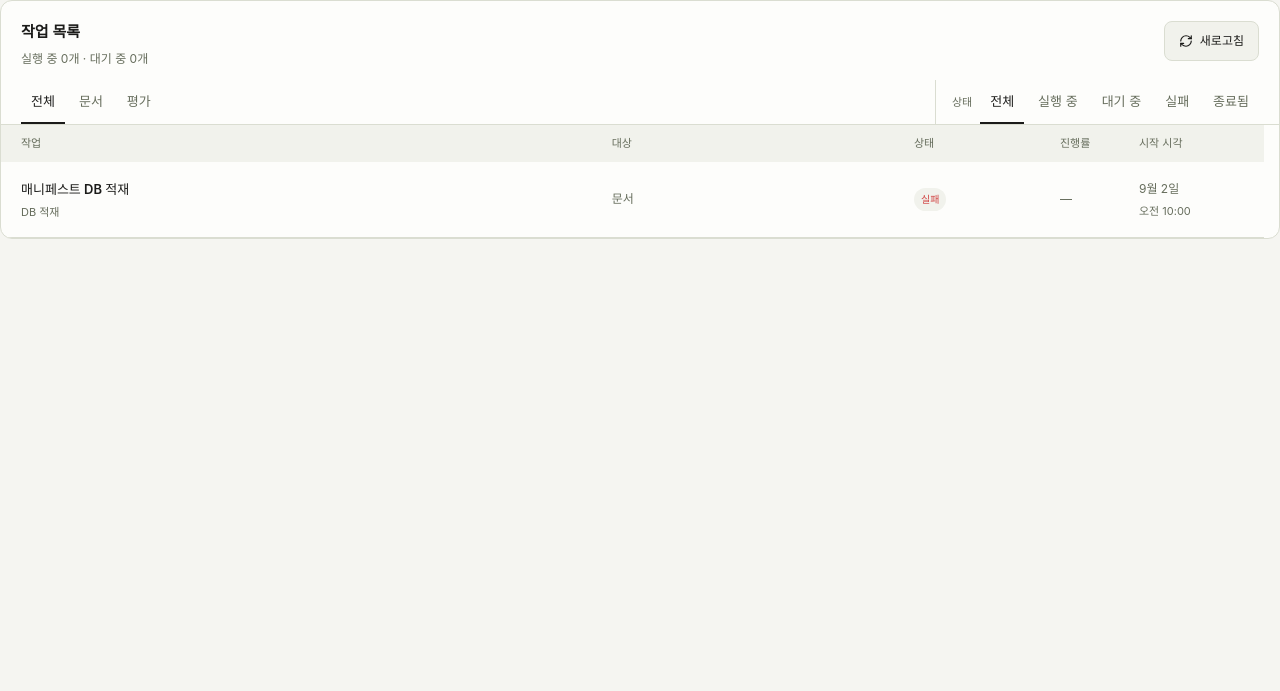
Test: localized job presentation › localizes job status while preserving server diagnostics
Step 1. Click the button "매니페스트" → {"x": 632, "y": 200}, box [1,162,1264,238]
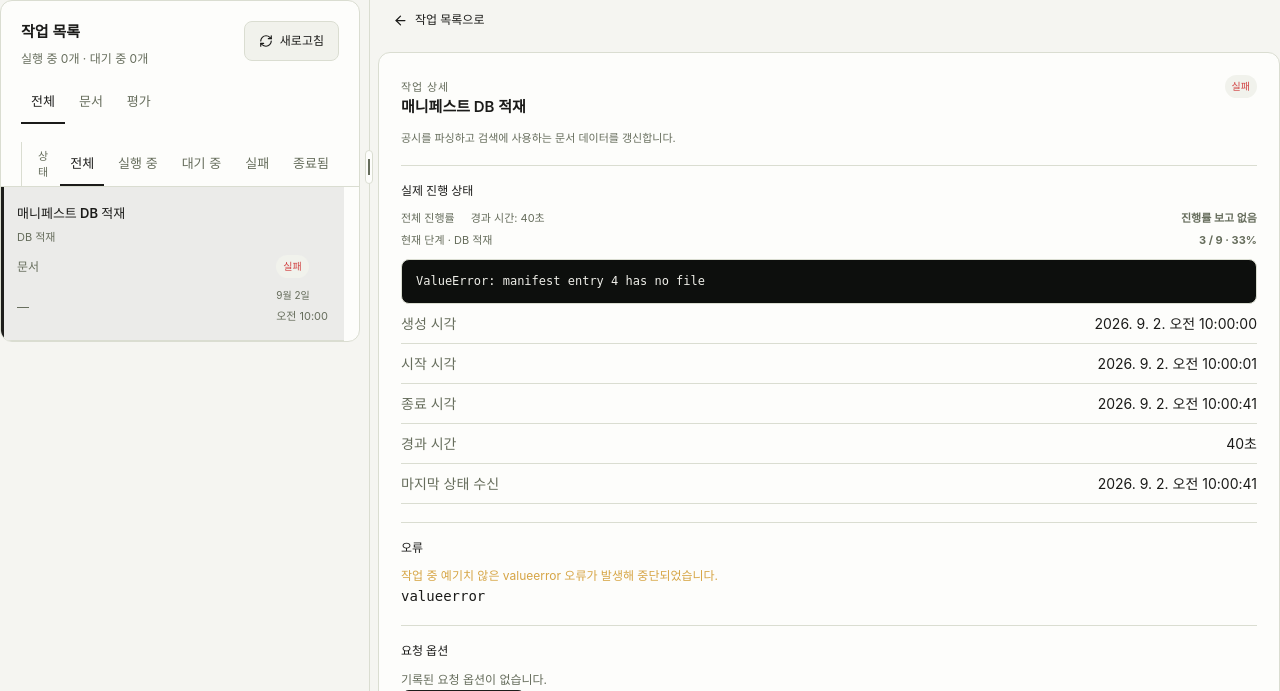
Expected: the text "ValueError: manifest entry 4 has no file" is shown, [401,258,1257,304]
Expected: the text "valueerror" is shown, [401,588,485,604]
Expected: the text "작업 중 예기치 않은 valueerror 오류가 발생해 중단되었습니다." is shown, [401,568,718,583]
